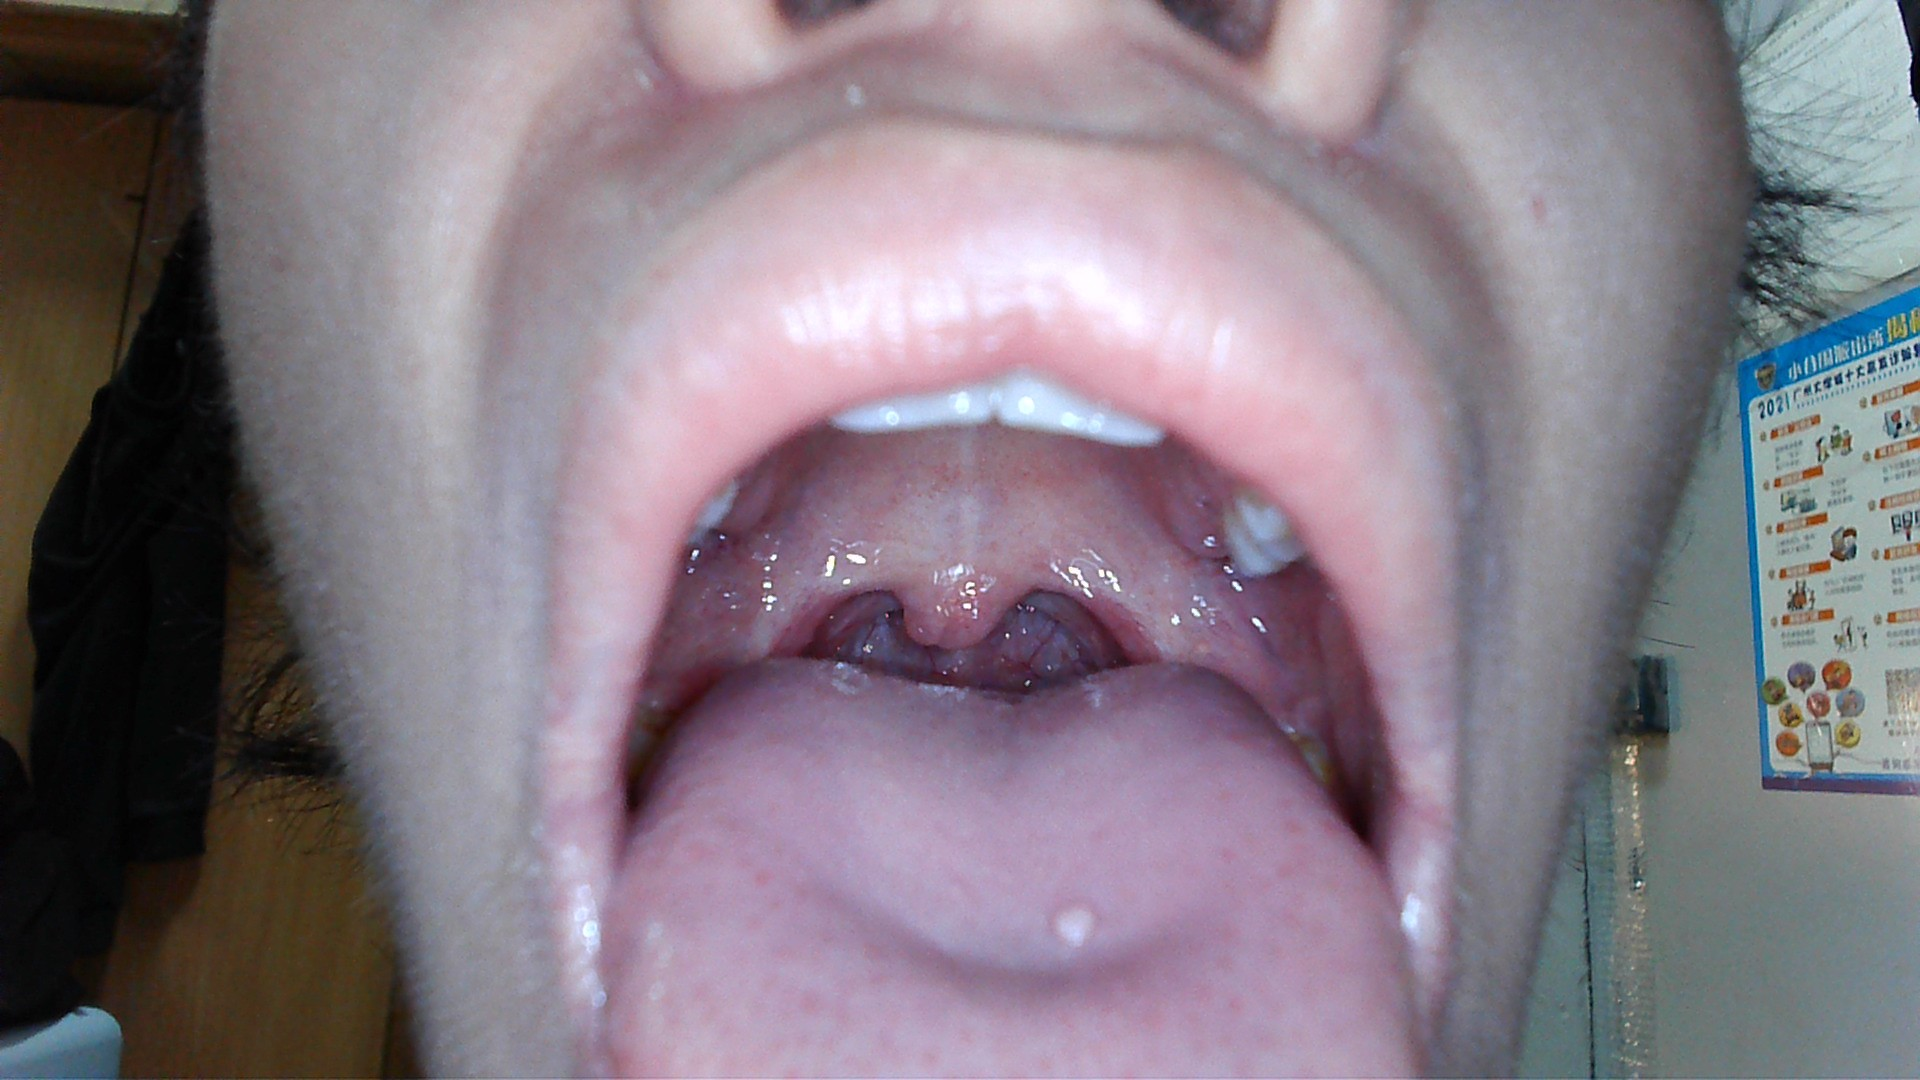throat: (1083, 545, 1170, 669), (762, 535, 847, 659)
